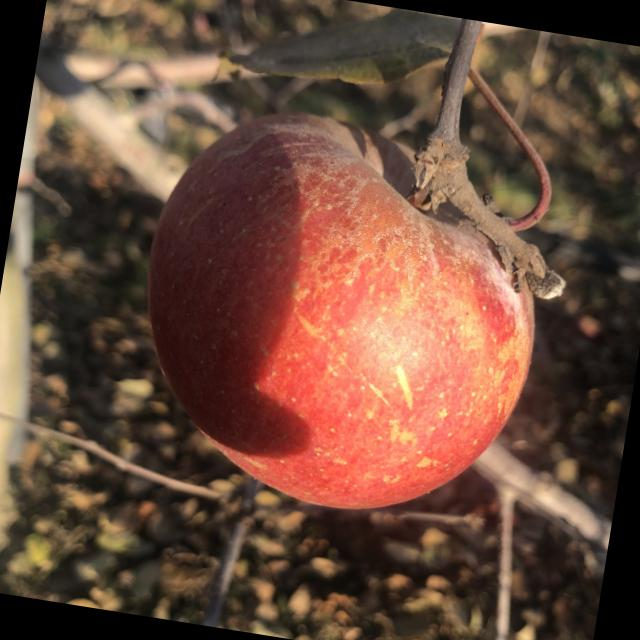fresh: (107, 84, 576, 543)
